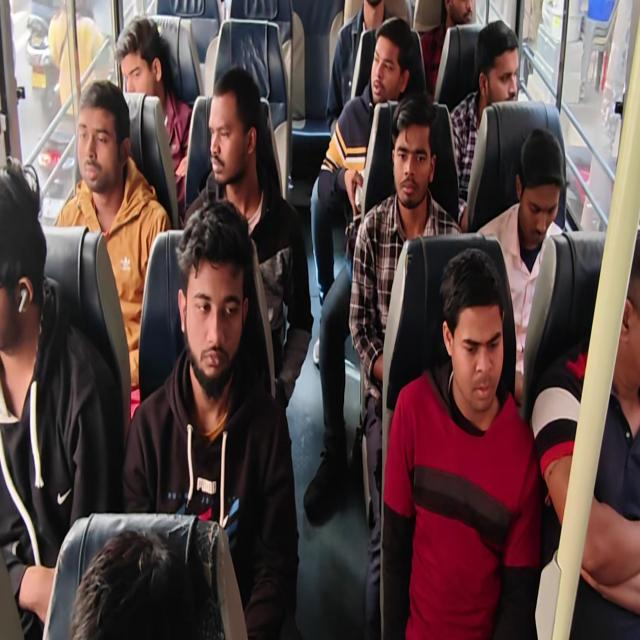person: (172, 184, 242, 384), (0, 159, 56, 360), (94, 544, 208, 640), (443, 277, 517, 411), (196, 64, 266, 197), (594, 215, 640, 388), (76, 82, 130, 200), (107, 9, 163, 114), (473, 14, 526, 122), (521, 149, 569, 250), (390, 110, 437, 208), (366, 34, 406, 102), (445, 0, 482, 31), (359, 0, 391, 21)
